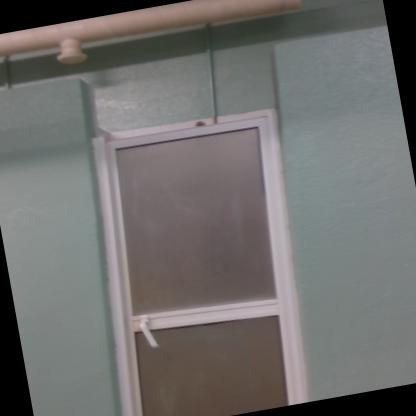closed: (56, 68, 348, 414)
